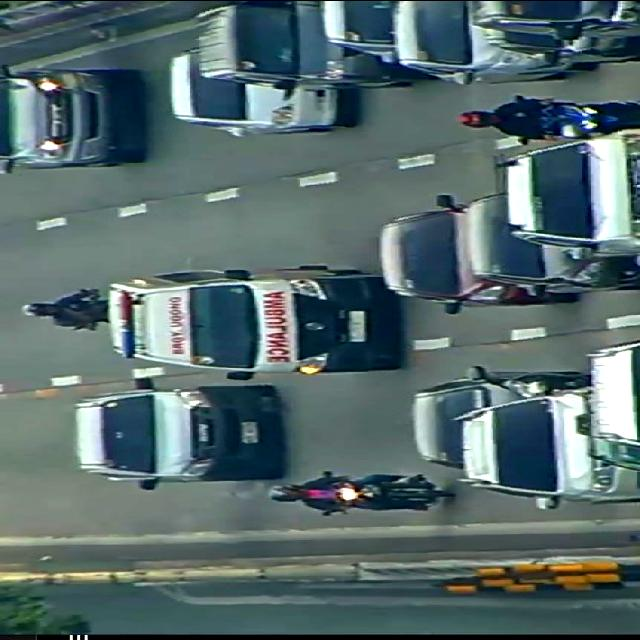emergency: (108, 264, 386, 372)
